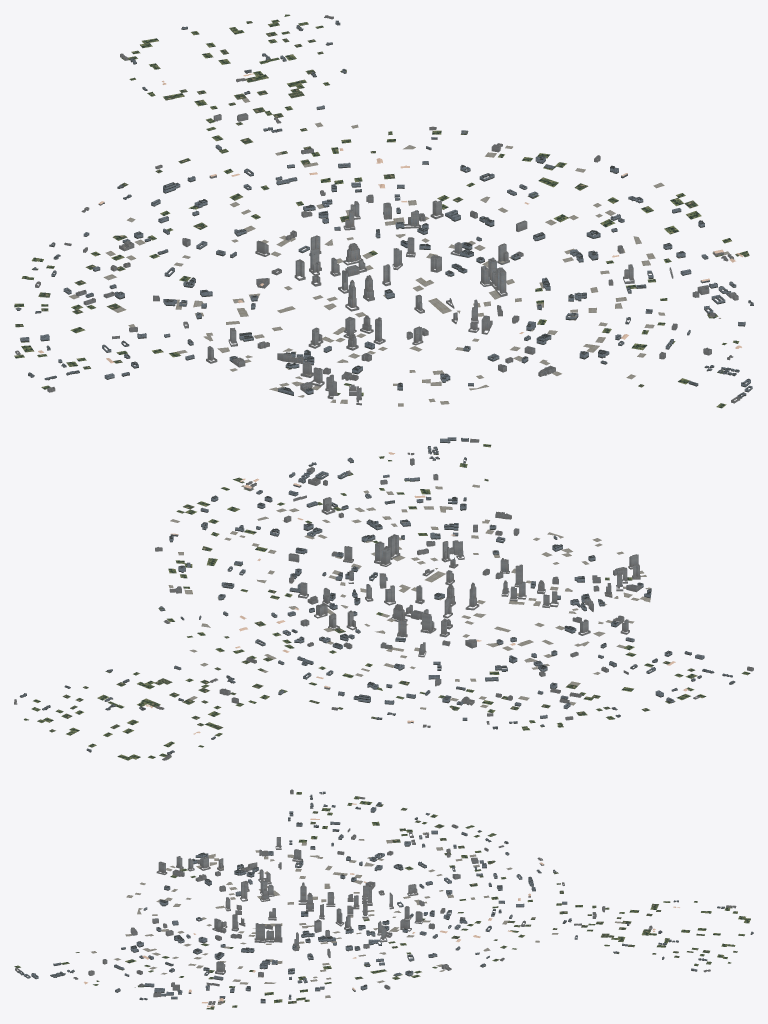
The model's file is city_3d_model_8.glb.
3 renders of one model, top to bottom at view 1: azimuth 30°, elevation 25°; view 2: azimuth 150°, elevation 25°; view 3: azimuth 270°, elevation 25°, orthographic. The views are drawn at different scales.
Visible parts, largest first — view 1: Object_72, Object_80, Object_78, Object_70, Object_76; view 2: Object_72, Object_80, Object_78, Object_70, Object_76; view 3: Object_72, Object_80, Object_78, Object_70, Object_76.
Part boxes in pixels (bbox=[...]): Object_72: bbox=[15, 15, 740, 405]; Object_80: bbox=[15, 20, 753, 398]; Object_78: bbox=[69, 98, 729, 406]; Object_70: bbox=[14, 14, 749, 408]; Object_76: bbox=[15, 21, 741, 387]; Object_72: bbox=[14, 438, 753, 760]; Object_80: bbox=[19, 437, 735, 754]; Object_78: bbox=[168, 470, 650, 709]; Object_70: bbox=[24, 444, 750, 760]; Object_76: bbox=[49, 453, 695, 732]; Object_72: bbox=[15, 789, 736, 1005]; Object_80: bbox=[18, 791, 753, 1003]; Object_78: bbox=[91, 832, 622, 1004]; Object_70: bbox=[14, 792, 750, 1009]; Object_76: bbox=[59, 803, 737, 1007].
Bounding box in the file's own units: 735 × 43.64 × 980.
6 materials, 6 textured.
